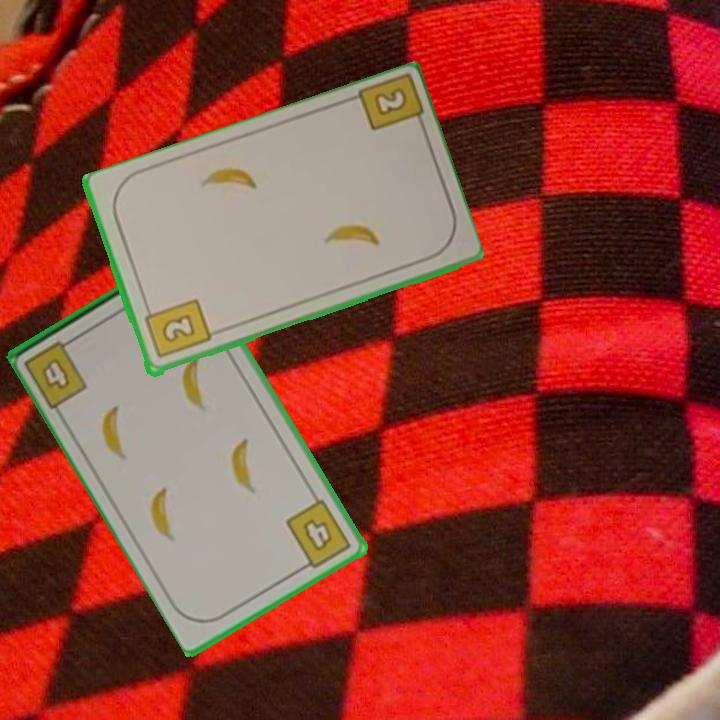2b: (352, 73, 429, 136), (141, 295, 213, 362)
4b: (282, 495, 355, 574), (20, 333, 91, 411)
